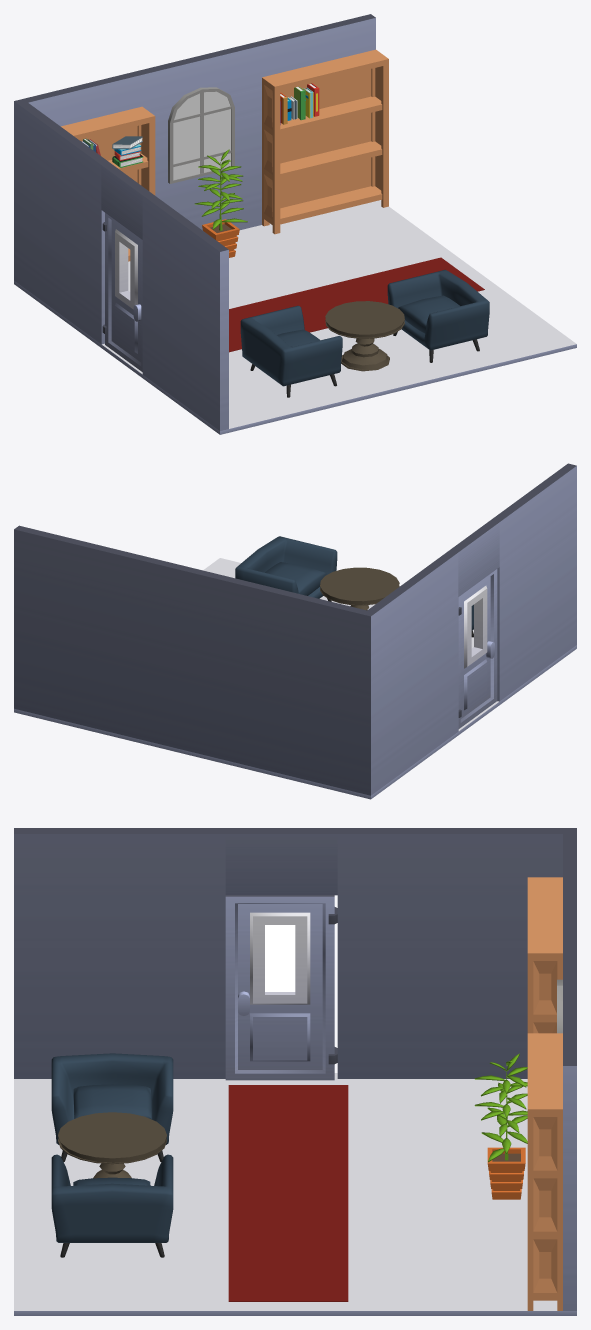
The model's file is Library.glb.
3 renders of one model, top to bottom at view 1: azimuth 30°, elevation 25°; view 2: azimuth 150°, elevation 25°; view 3: azimuth 270°, elevation 25°, orthographic. The views are drawn at different scales.
Parts seen in each view (by area): view 1: Wall, Floor, BookcaseB, CouchA, CouchB, Window, WoolCarpet, Door, Table_Round, BookcaseA, Plant, Tutorials (+1 smaller); view 2: Wall, Door, CouchA, Floor, Table_Round; view 3: Wall, Floor, WoolCarpet, Door, BookcaseB, CouchA, CouchB, BookcaseA, Table_Round, Plant, Glass.
Boxes of the visible parts, box(x1,y1,x2,y2) form: Wall: box(14, 14, 375, 430); Floor: box(14, 200, 576, 434); BookcaseB: box(262, 49, 388, 234); CouchA: box(387, 269, 489, 362); CouchB: box(240, 305, 342, 397); Window: box(168, 87, 234, 183); WoolCarpet: box(229, 257, 484, 352); Door: box(102, 213, 142, 371); Table_Round: box(325, 301, 404, 371); BookcaseA: box(61, 106, 155, 261); Plant: box(194, 149, 247, 257); Tutorials: box(280, 83, 319, 124); Wall: box(14, 463, 576, 795); Door: box(458, 569, 497, 728); CouchA: box(235, 536, 337, 601); Floor: box(14, 558, 576, 799); Table_Round: box(320, 567, 399, 610); Wall: box(14, 828, 576, 1310); Floor: box(14, 1073, 576, 1315); WoolCarpet: box(228, 1085, 348, 1301); Door: box(225, 895, 337, 1080); BookcaseB: box(527, 1033, 562, 1310); CouchA: box(51, 1154, 173, 1257); CouchB: box(51, 1053, 173, 1162); BookcaseA: box(527, 877, 562, 1033); Table_Round: box(58, 1112, 166, 1178); Plant: box(474, 1053, 527, 1199); Glass: box(265, 925, 295, 991).
Bounding box in the file's own units: 10 × 4.9 × 10.
50 materials, 7 textured.
